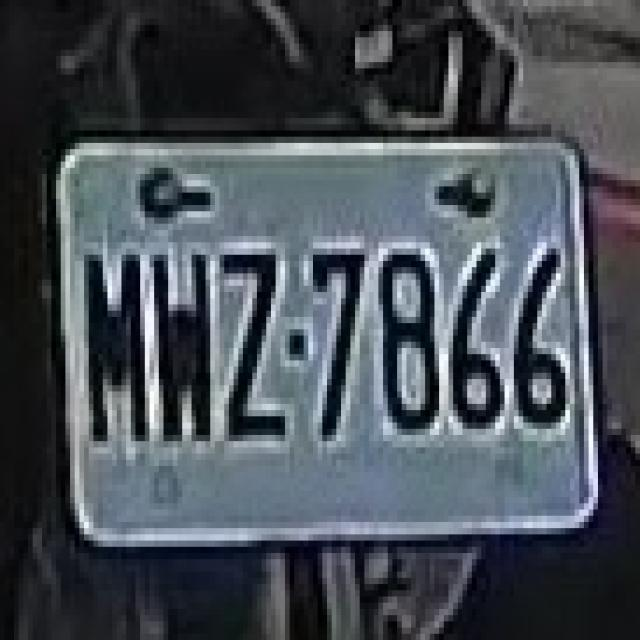license-plate: (54, 127, 604, 544)
